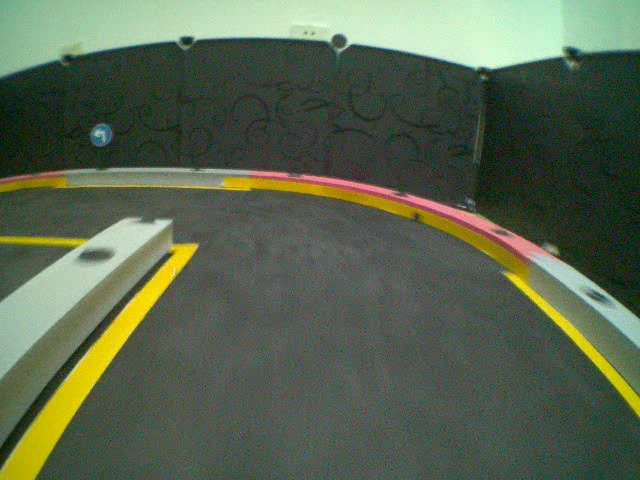turn: (89, 123, 112, 147)
